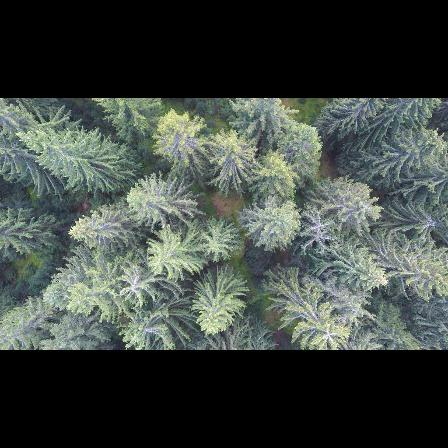Sick: (297, 214, 340, 255)
